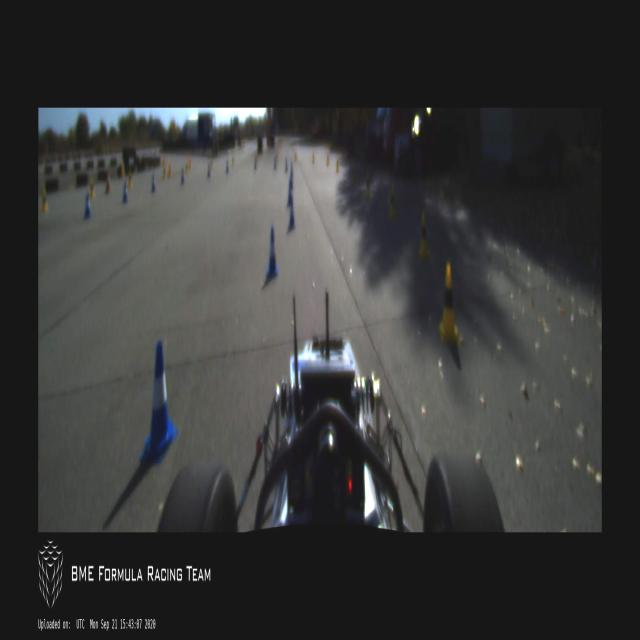blue_cone: (140, 340, 178, 464), (267, 226, 278, 279), (288, 200, 294, 228), (84, 192, 90, 218), (122, 180, 128, 202), (288, 183, 292, 205), (152, 174, 156, 192)
yellow_cone: (439, 264, 458, 342), (418, 214, 430, 258), (388, 185, 396, 218), (42, 188, 48, 212), (366, 172, 370, 198), (90, 178, 94, 198), (128, 171, 132, 187)
